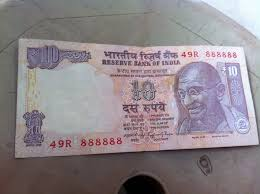ten_rupees_note: (15, 37, 259, 159)
